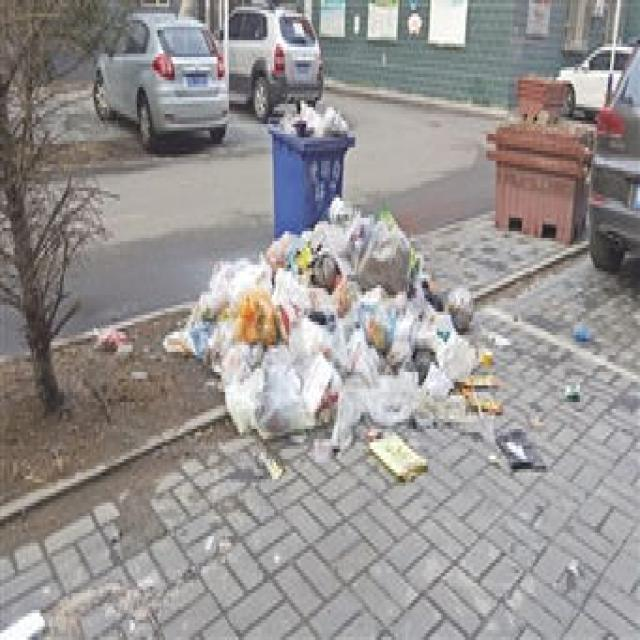garbage: (160, 191, 548, 476)
overflow: (266, 94, 354, 238)
